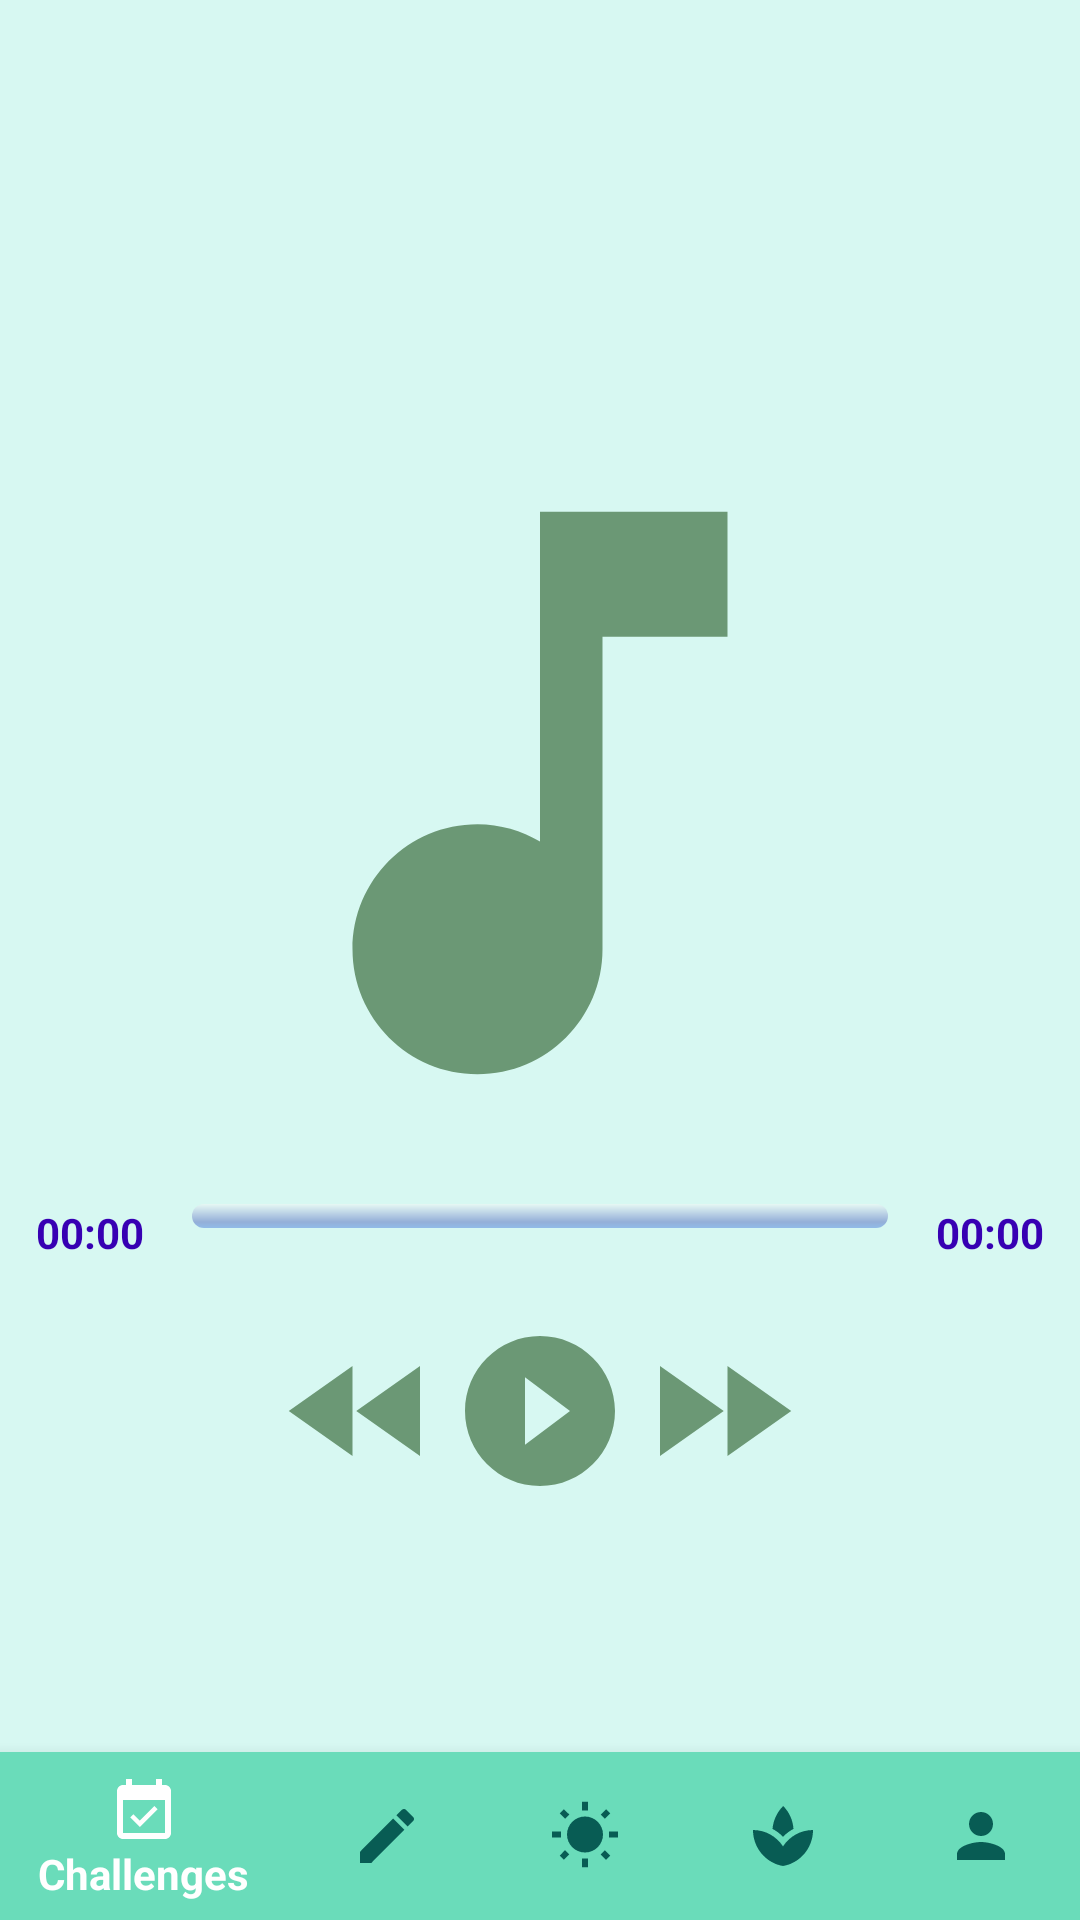

Point at icon controls on the screen. Image size 1080px×1920px, points as [x,y].
fast rewind: [354,1411]
forward: [725,1411]
play: [540,1411]
